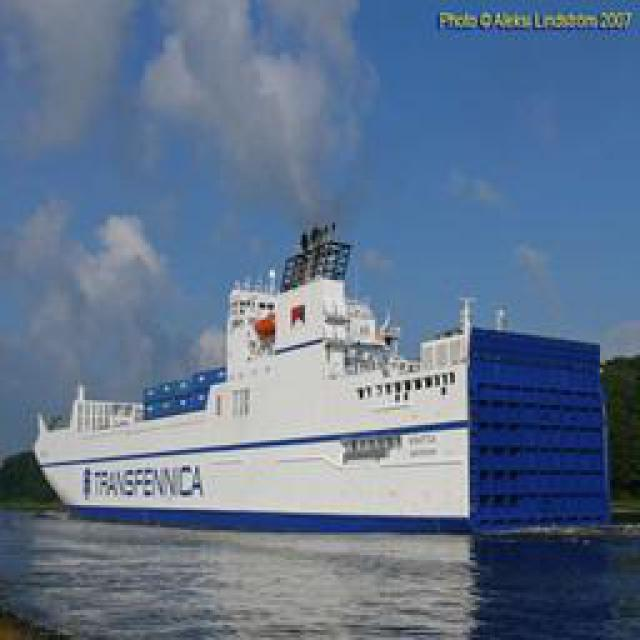Ship: (34, 227, 567, 537)
